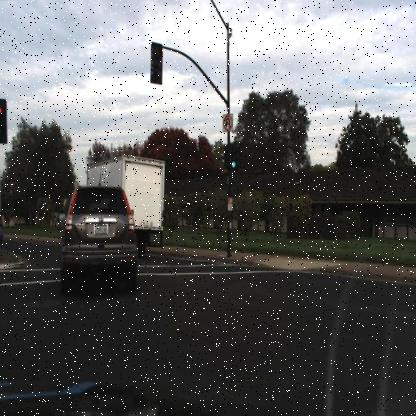car: (58, 185, 138, 292)
trafficLight-Green: (228, 142, 238, 173), (230, 148, 237, 171)
trafficLight-Red: (150, 39, 164, 89), (151, 40, 162, 85)
truck: (83, 152, 168, 254)
